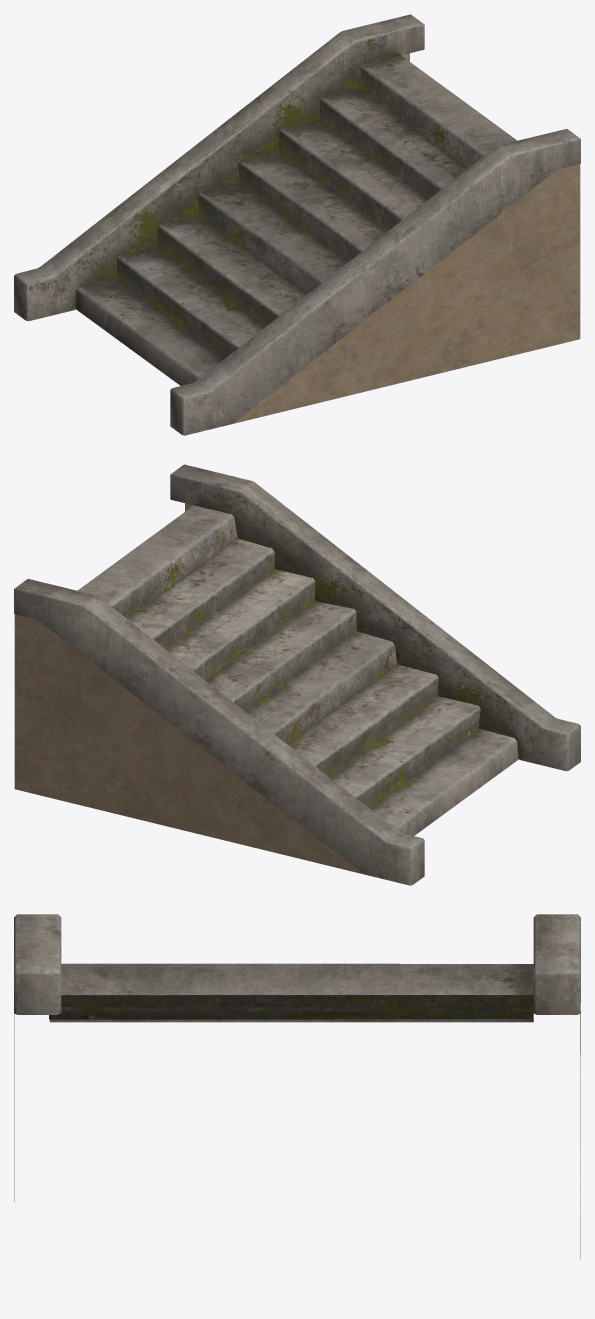
The model's file is SM_StairsB.fbx.
3 renders of one model, top to bottom at view 1: azimuth 30°, elevation 25°; view 2: azimuth 150°, elevation 25°; view 3: azimuth 270°, elevation 25°, orthographic. The views are drawn at different scales.
Visible parts, largest first — view 1: SM_StairsB_LOD0; view 2: SM_StairsB_LOD0; view 3: SM_StairsB_LOD0.
Boxes of the visible parts, left/top/right/bottom form: SM_StairsB_LOD0: left=14, top=14, right=580, bottom=435; SM_StairsB_LOD0: left=14, top=464, right=580, bottom=885; SM_StairsB_LOD0: left=14, top=914, right=580, bottom=1258.
Bounding box in the file's own units: 324 × 240 × 156.
2 materials, 2 textured.
